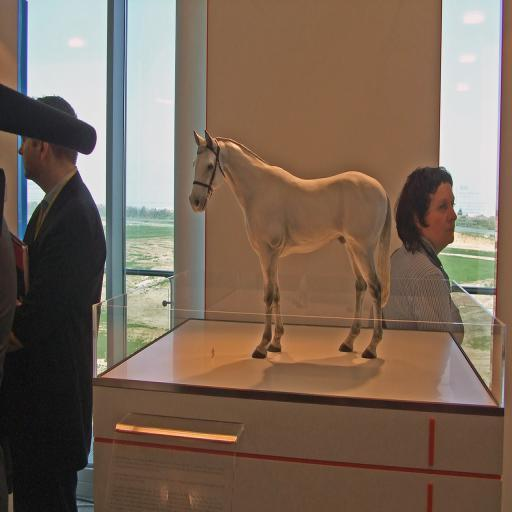horse: (188, 128, 394, 358)
